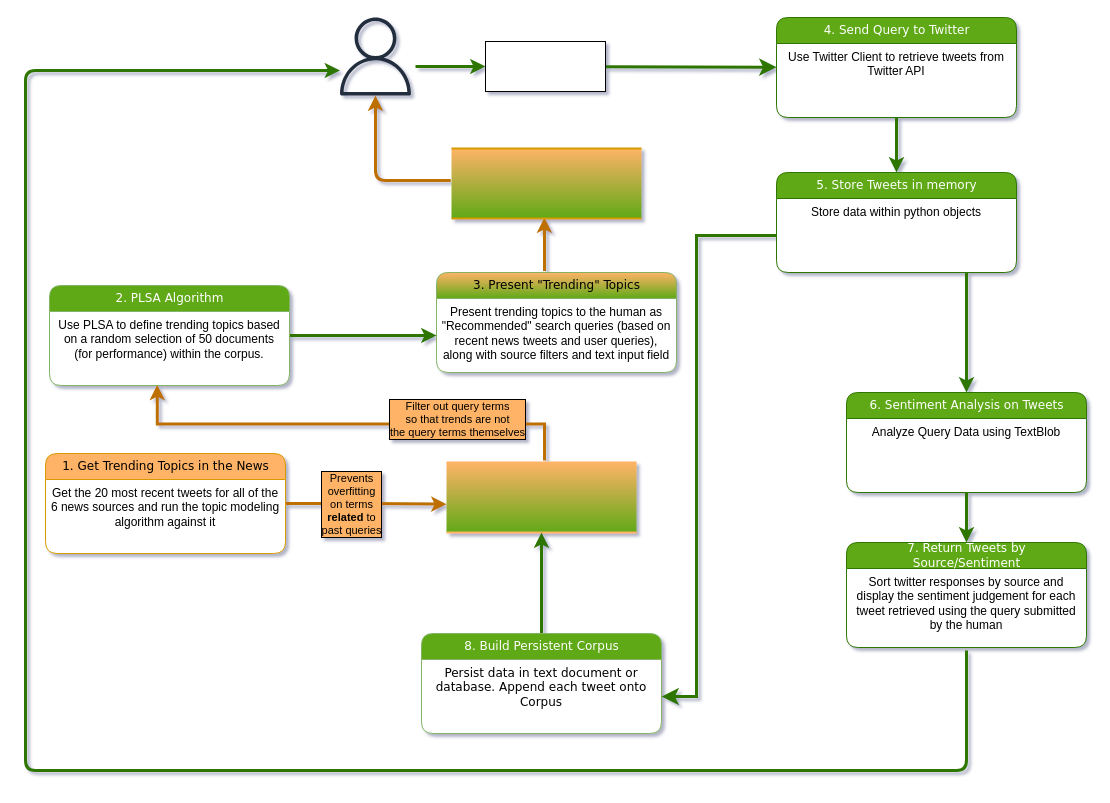
Image size: 1110x803. Some labels were removed from this diagram. The centre of each missing label's shape, as x and y in pixels:
"Output/Input: Trending Topics on Home Page" belongs at (x=546, y=183).
"Output: Persistent Corpus" belongs at (x=541, y=497).
"User Query Data" belongs at (x=545, y=66).
